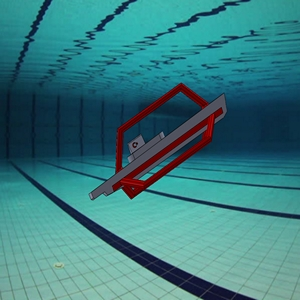submarine: (83, 74, 236, 217)
